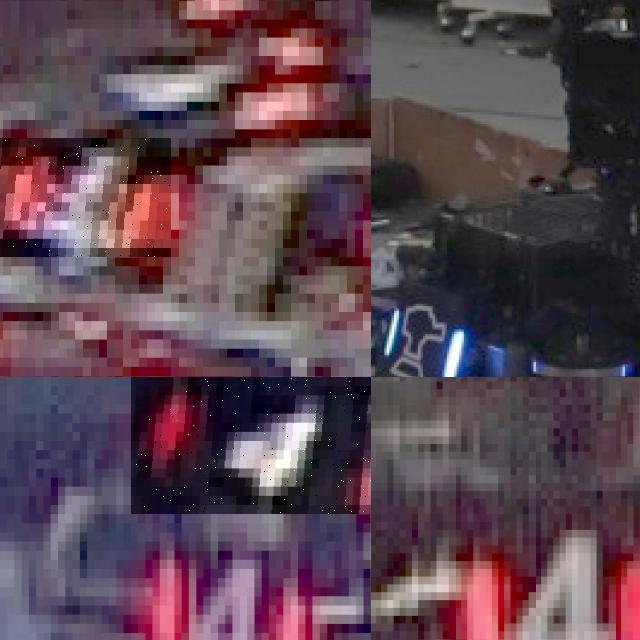Bs: (379, 299, 466, 377)
R4: (131, 377, 371, 514), (443, 522, 640, 640), (0, 138, 171, 257), (137, 541, 305, 640)
